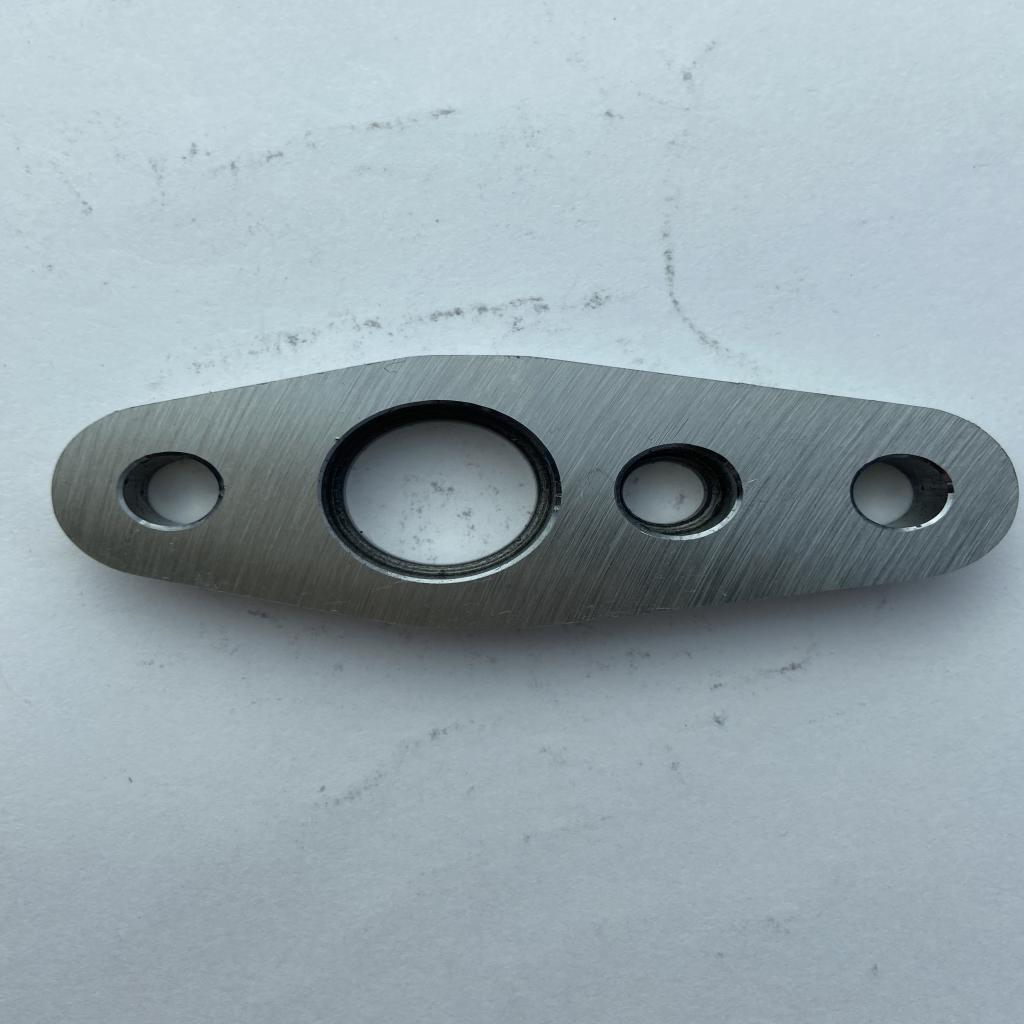chap: (914, 524, 926, 532), (746, 478, 759, 483), (647, 436, 656, 442), (334, 436, 342, 442)
lines: (586, 464, 614, 501), (381, 362, 410, 374)
